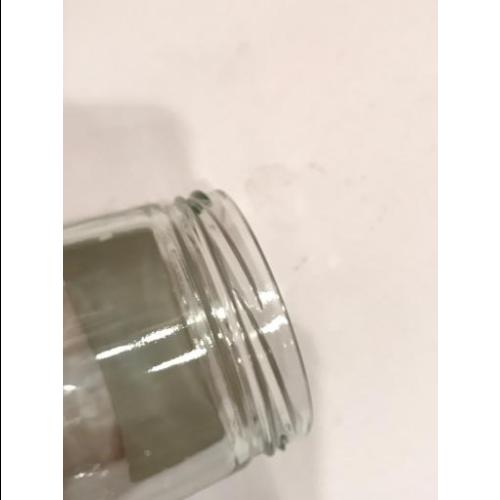glass: (68, 186, 301, 499)
